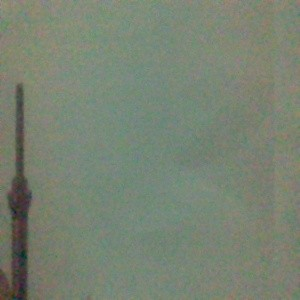obeng: (6, 81, 33, 300)
